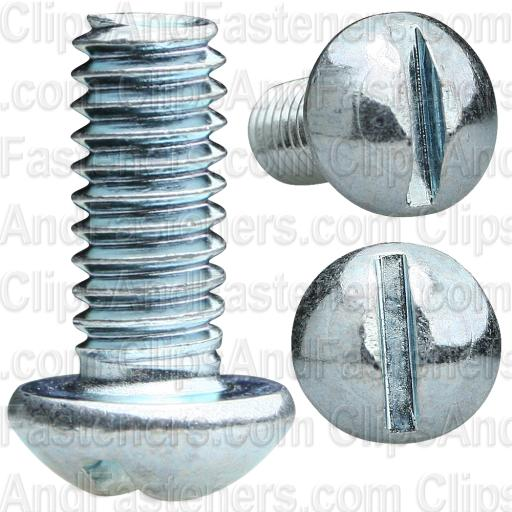Slotted: (293, 241, 500, 444), (302, 8, 498, 214)
